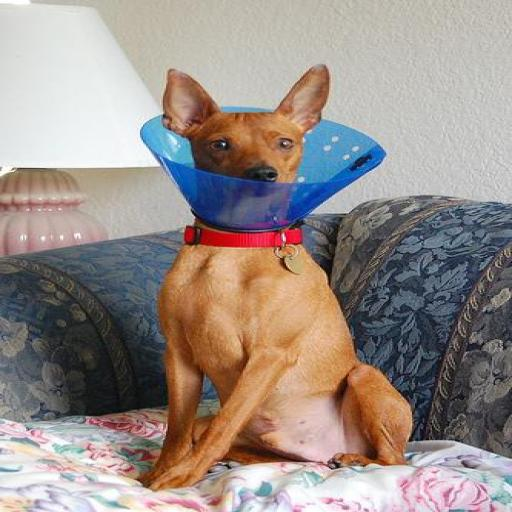dog_face: (150, 62, 344, 220)
